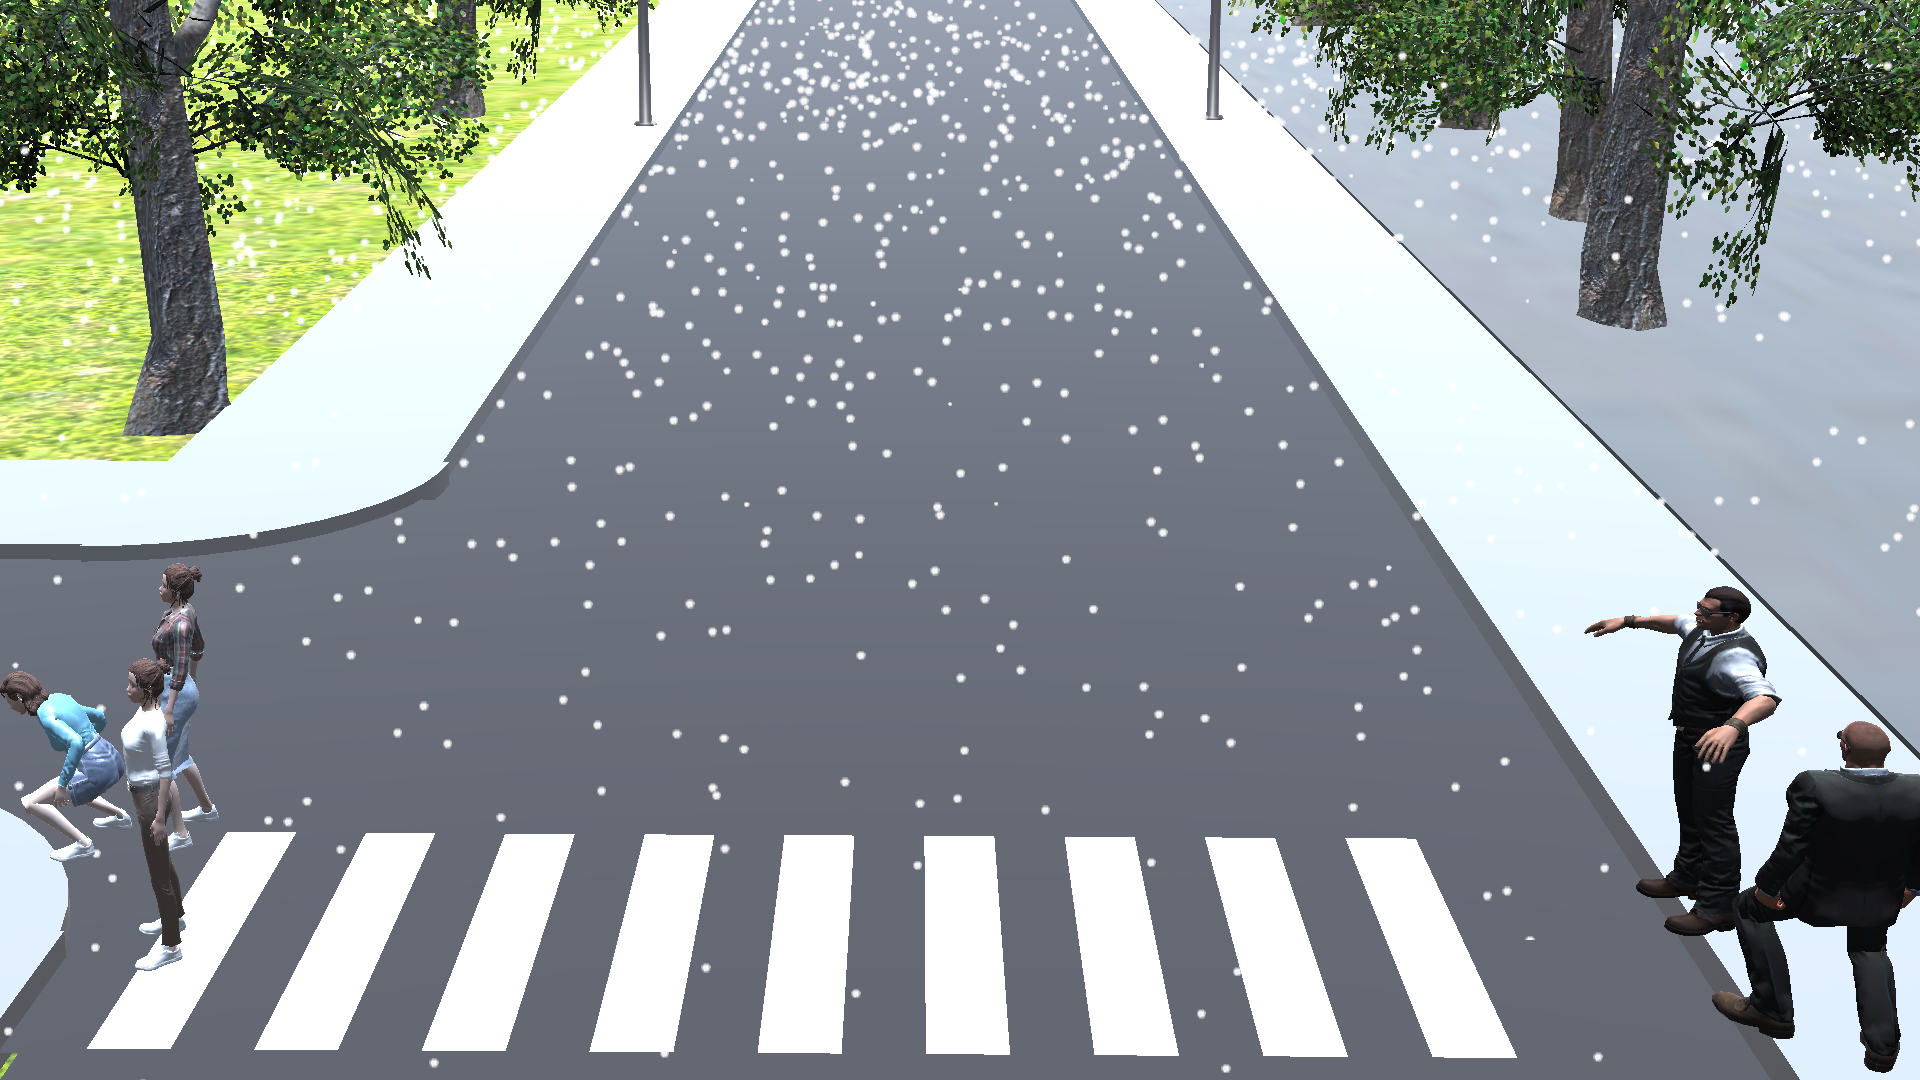pedestrian: (1569, 553, 1764, 972), (1733, 693, 1908, 1065), (101, 650, 202, 974), (157, 553, 263, 854), (1, 662, 122, 891)
